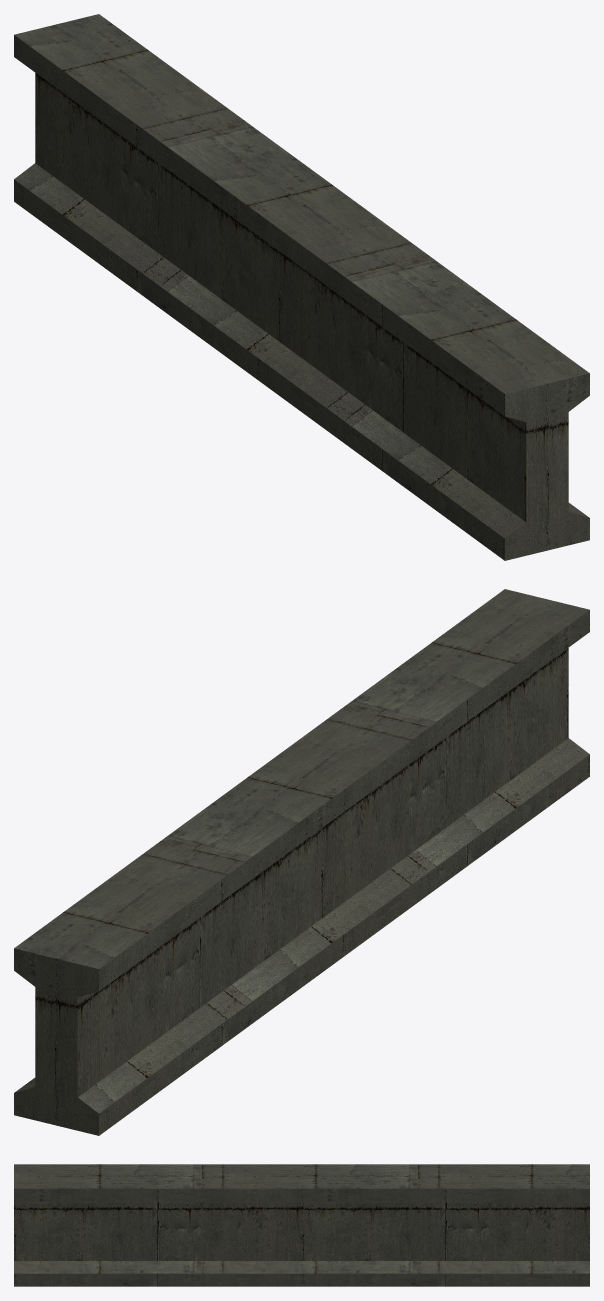
Rendered from seam_hr_1.glb.
3 renders of one model, top to bottom at view 1: azimuth 30°, elevation 25°; view 2: azimuth 150°, elevation 25°; view 3: azimuth 270°, elevation 25°, orthographic. The views are drawn at different scales.
Visible parts, largest first — view 1: seam_hr_1; view 2: seam_hr_1; view 3: seam_hr_1.
Part boxes in pixels (x1,y1,x2,y2): seam_hr_1: (14, 14, 589, 560); seam_hr_1: (14, 589, 589, 1135); seam_hr_1: (14, 1164, 589, 1286).
Bounding box in the file's own units: 0.8 × 1.5 × 8.
Materials: 1 (1 with a texture image).
